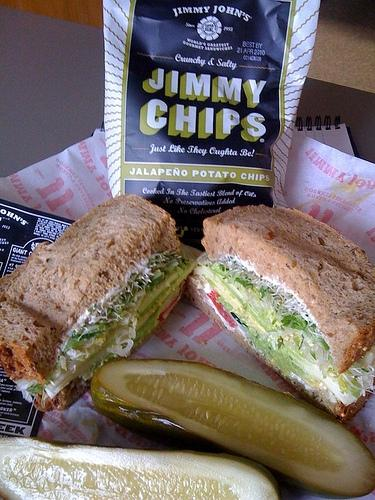lettuce: (245, 327, 304, 379), (132, 306, 160, 348), (243, 303, 277, 331), (280, 313, 308, 330), (146, 270, 164, 286), (234, 277, 252, 288), (278, 336, 284, 350), (266, 296, 276, 304), (130, 296, 138, 304)
tomato: (206, 289, 238, 328)
